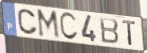4: (81, 15, 99, 44)
B: (98, 16, 120, 46)
C: (58, 11, 80, 42), (16, 8, 39, 36)
M: (35, 9, 61, 41)
T: (121, 19, 137, 47)
